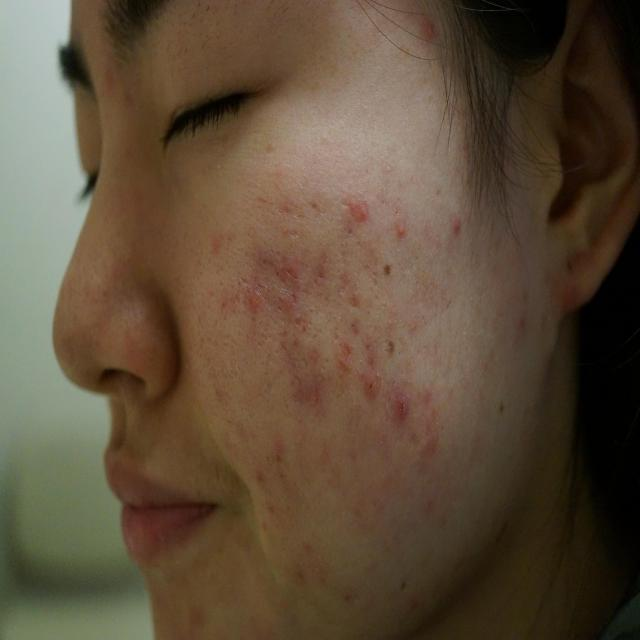pustule: (291, 368, 333, 421), (418, 412, 458, 462), (328, 318, 371, 362), (286, 544, 326, 589), (262, 428, 298, 475), (343, 186, 381, 228), (238, 274, 268, 316), (357, 363, 390, 400), (309, 250, 336, 290), (388, 395, 416, 431), (182, 599, 210, 630), (338, 282, 367, 310), (274, 263, 302, 291), (277, 286, 301, 314), (253, 247, 286, 267), (416, 385, 438, 415), (392, 204, 410, 239), (278, 337, 298, 366), (446, 211, 467, 236), (417, 19, 436, 40)
